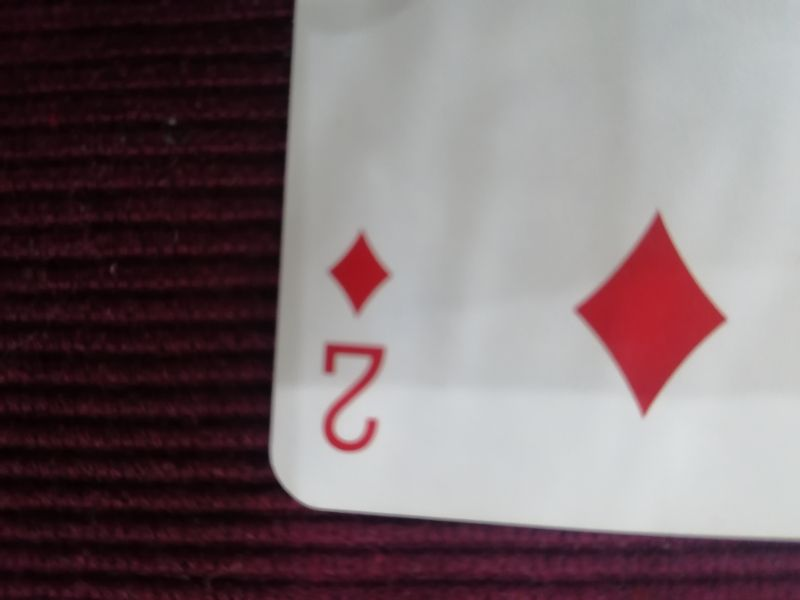2d: (315, 214, 398, 461)
